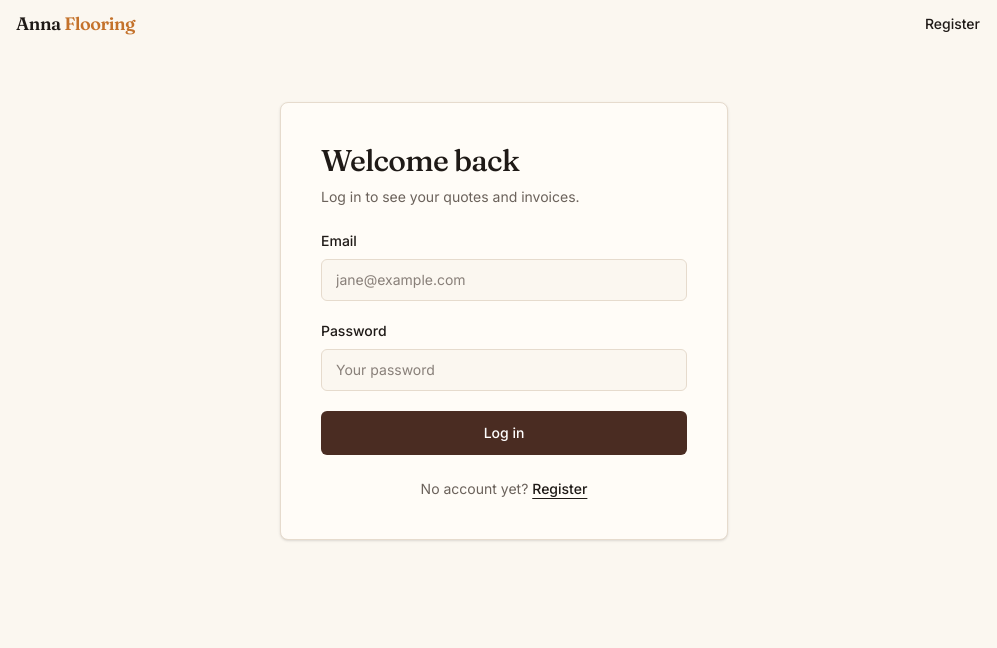
Scenario: Login › shows the server's message, e.g. when too many attempts failed
Type "john@demo.com" into the field labelled "Email" at (504, 280), box [321,259,687,301]
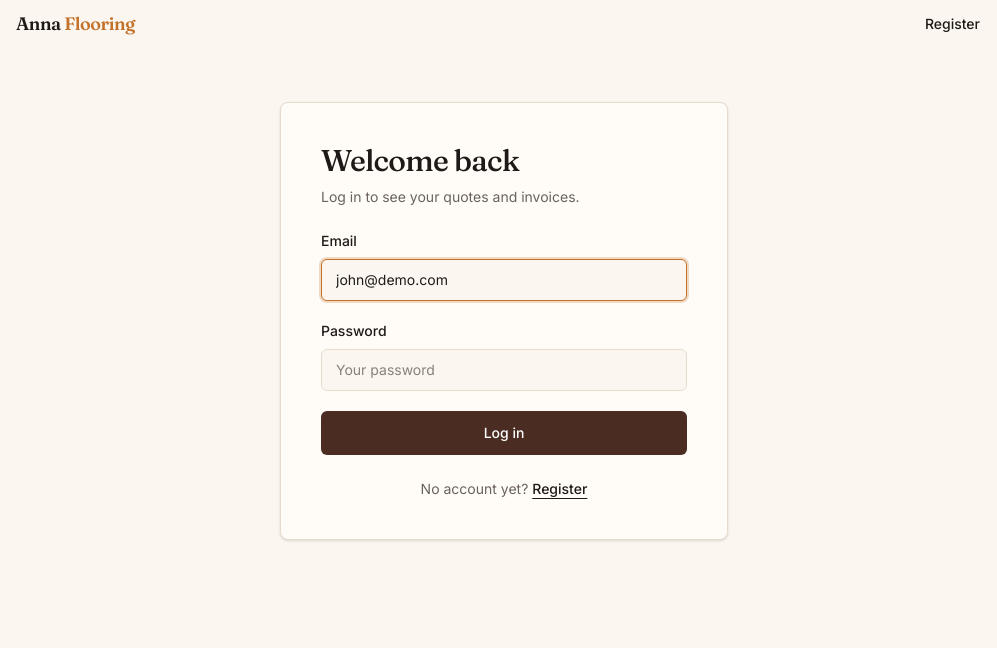
Type "wrong-password" into the password field labelled "Password" at (504, 370), box [321,349,687,391]
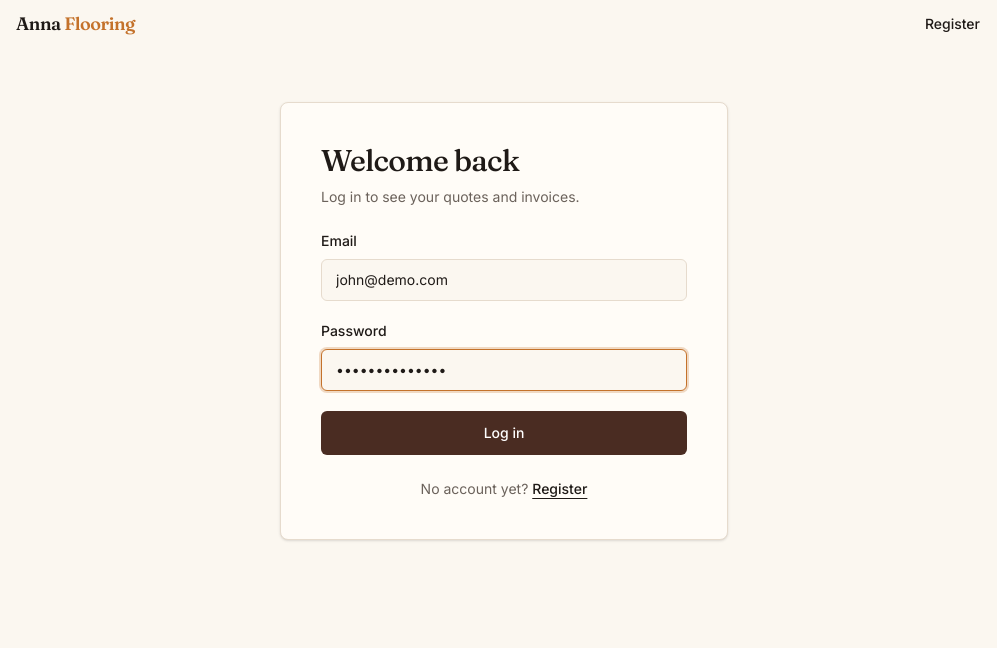
Click the button "Log in" at (504, 433), box [321,411,687,455]
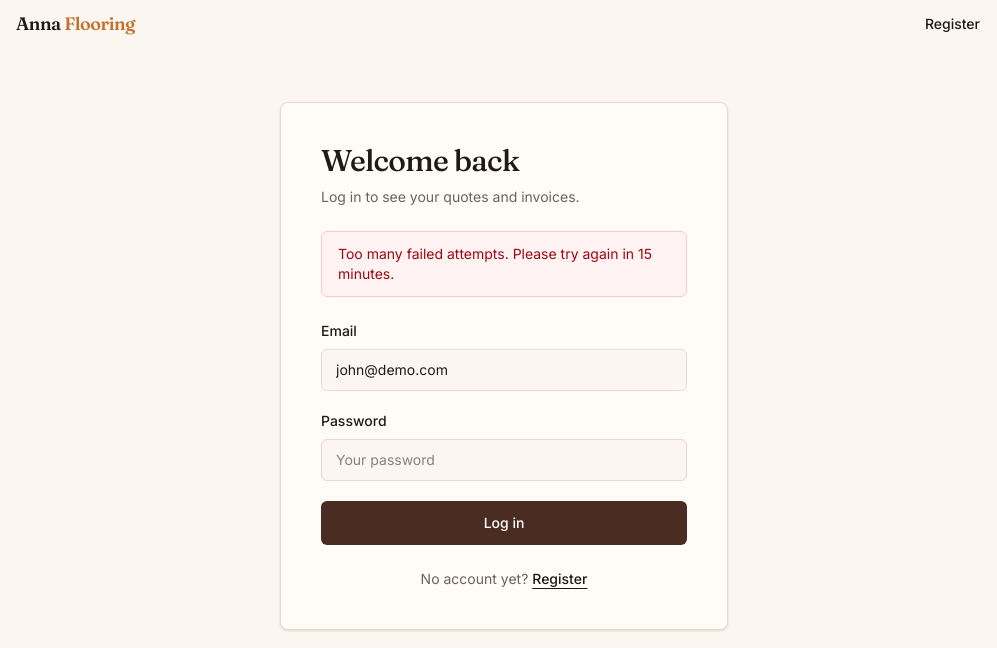
Expected: the message shows "Too many failed attempts", [338,245,652,282]
Expected: the password field labelled "Password" is empty, [321,439,687,481]
